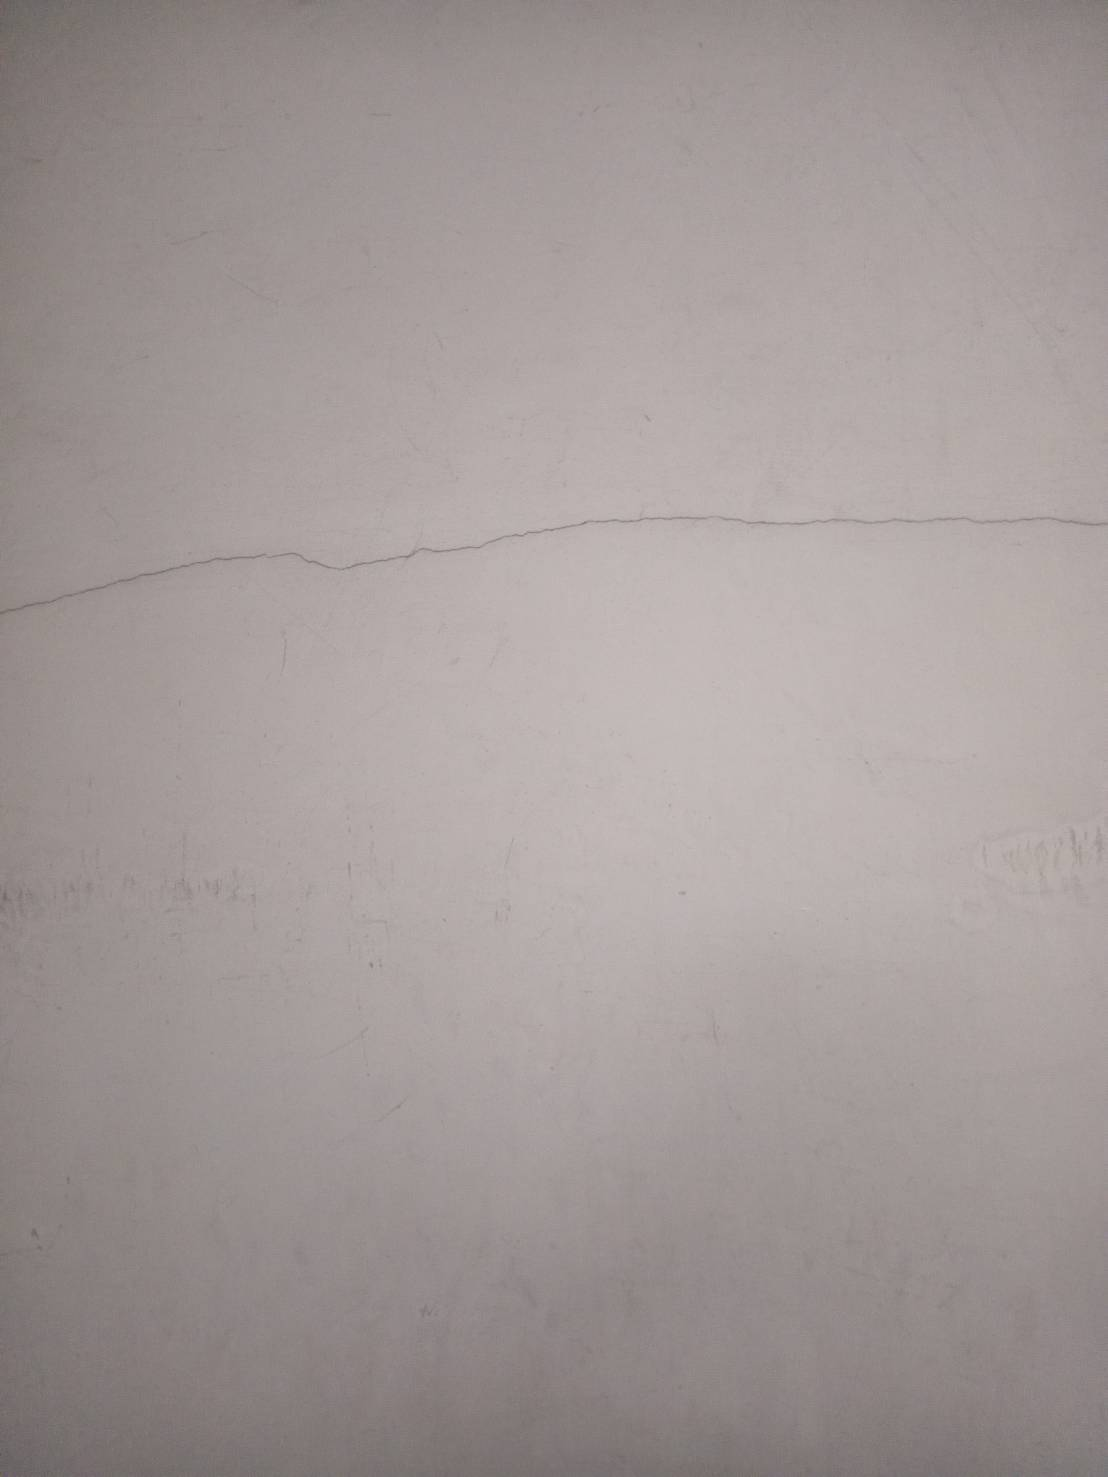Low: (3, 493, 1108, 691)
